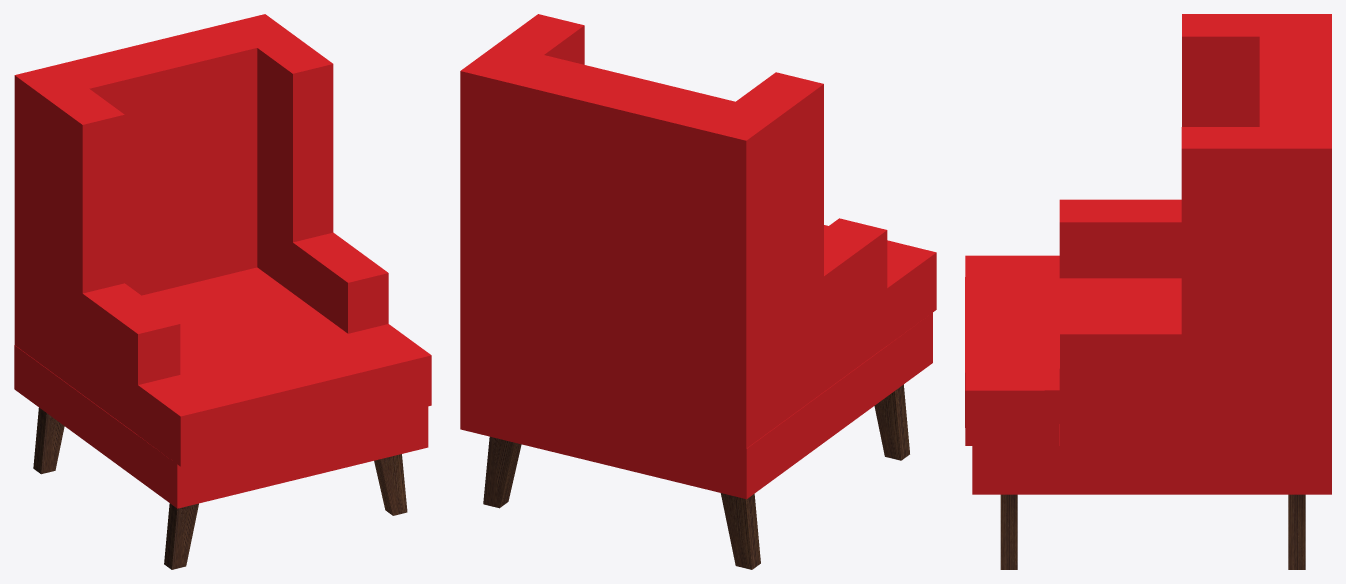
The model's file is Red Chair.fbx.
3 renders of one model, left to right at view 1: azimuth 30°, elevation 25°; view 2: azimuth 150°, elevation 25°; view 3: azimuth 270°, elevation 25°, orthographic. The views are drawn at different scales.
Visible parts, largest first — view 1: Rest, Cushion, Base, Leg 1, Leg 3, Leg 2; view 2: Rest, Base, Cushion, Leg 2, Leg 4, Leg 1; view 3: Rest, Cushion, Base, Leg 4, Leg 3.
Part boxes in pixels (left/top/right/bottom): Rest: left=14, top=14, right=388, bottom=434; Cushion: left=138, top=267, right=431, bottom=466; Base: left=14, top=345, right=428, bottom=508; Leg 1: left=164, top=503, right=198, bottom=569; Leg 3: left=374, top=454, right=407, bottom=515; Leg 2: left=33, top=407, right=64, bottom=474; Rest: left=460, top=14, right=887, bottom=448; Base: left=460, top=312, right=932, bottom=499; Cushion: left=824, top=225, right=936, bottom=345; Leg 2: left=720, top=493, right=760, bottom=569; Leg 4: left=483, top=436, right=521, bottom=508; Leg 1: left=874, top=384, right=909, bottom=460; Rest: left=1059, top=14, right=1331, bottom=445; Cushion: left=965, top=255, right=1181, bottom=445; Base: left=972, top=424, right=1331, bottom=494; Leg 4: left=1288, top=494, right=1305, bottom=569; Leg 3: left=1000, top=494, right=1017, bottom=569.
Bounding box in the file's own units: 528 × 777 × 606.
